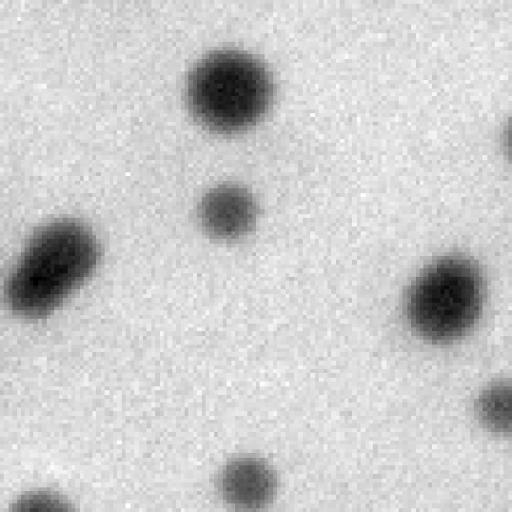Nanoparticles: (178, 40, 286, 144), (400, 252, 490, 348), (34, 214, 106, 292), (191, 176, 267, 248), (3, 254, 71, 318), (213, 450, 282, 511), (476, 374, 512, 433), (19, 484, 76, 512)
